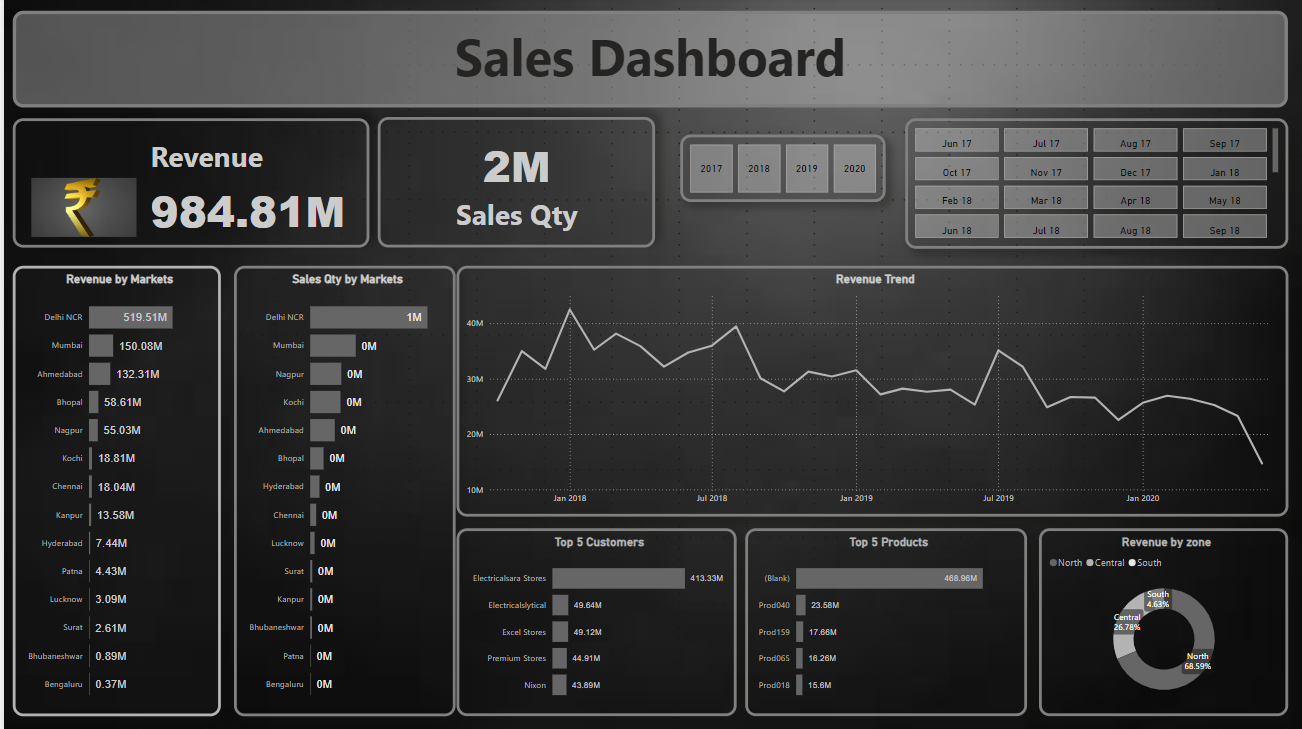

The dashboard page shown, as its layout file describes it:
{"tool":"powerbi","page":{"name":"Page 1","canvas":[1850,1050],"ordinal":0},"visuals":[{"type":"cardVisual","fields":{"Data":["BaseMeasure.Revenue"]},"box":[12.5,173.2,507.1,183.7],"z":0},{"type":"card","title":"Sales Qty","fields":{"Values":["BaseMeasure.Sales Qty"]},"box":[532.2,171.1,394.4,185.7],"z":1000},{"type":"barChart","title":"Revenue by Markets","fields":{"Category":["sales markets.markets_name"],"Y":["BaseMeasure.Revenue"]},"box":[12.5,381.9,296.3,640.7],"z":2000},{"type":"barChart","title":"Sales Qty by Markets","fields":{"Y":["BaseMeasure.Sales Qty"],"Category":["sales markets.markets_name"]},"box":[327.7,381.9,315.1,640.7],"z":3000},{"type":"advancedSlicerVisual","title":"Year","fields":{"Values":["sales date.year"]},"box":[962.1,196.2,292.2,96],"z":4000},{"type":"advancedSlicerVisual","title":"Year","fields":{"Values":["sales date.cy_date"]},"box":[1281.4,173.2,544.7,185.7],"z":5000},{"type":"barChart","title":"Top 5 Customers","fields":{"Y":["BaseMeasure.Revenue"],"Category":["sales customers.custmer_name"]},"box":[642.8,755.5,398.6,267.1],"z":6000},{"type":"barChart","title":"Top 5 Products","fields":{"Y":["BaseMeasure.Revenue"],"Category":["sales products.product_code"]},"box":[1053.9,755.5,400.7,267.1],"z":7000},{"type":"lineChart","title":"Revenue Trend","fields":{"Y":["BaseMeasure.Revenue"],"Category":["sales date.cy_date.Variation.Date Hierarchy.Year","sales date.cy_date.Variation.Date Hierarchy.Quarter","sales date.cy_date.Variation.Date Hierarchy.Month","sales date.cy_date.Variation.Date Hierarchy.Day"]},"box":[642.8,381.9,1183.3,356.9],"z":8000},{"type":"textbox","box":[12.5,18.8,1813.6,137.7],"z":9000},{"type":"donutChart","fields":{"Category":["sales markets.zone"],"Y":["BaseMeasure.Revenue"]},"box":[1471.3,755.5,354.8,267.1],"z":10000}]}

Visuals, with their boxes in screenshot pixels (x1, y1, x2, y2), scaled from the page's 1850x1050 canvas onto the 1302x729 screenshot:
cardVisual - BaseMeasure.Revenue: crop(9, 120, 366, 248)
"Sales Qty" card: crop(375, 119, 652, 248)
"Revenue by Markets" barChart: crop(9, 265, 217, 710)
"Sales Qty by Markets" barChart: crop(231, 265, 452, 710)
"Year" advancedSlicerVisual: crop(677, 136, 883, 203)
"Year" advancedSlicerVisual: crop(902, 120, 1285, 249)
"Top 5 Customers" barChart: crop(452, 525, 733, 710)
"Top 5 Products" barChart: crop(742, 525, 1024, 710)
"Revenue Trend" lineChart: crop(452, 265, 1285, 513)
textbox: crop(9, 13, 1285, 109)
donutChart - sales markets.zone x BaseMeasure.Revenue: crop(1035, 525, 1285, 710)
